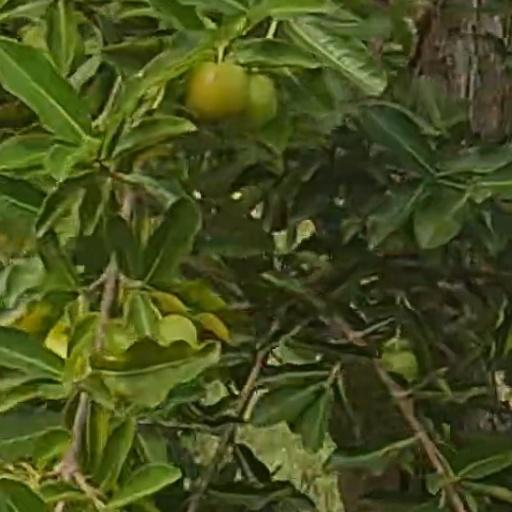acerola_verde: (189, 61, 244, 117), (242, 72, 276, 130)
